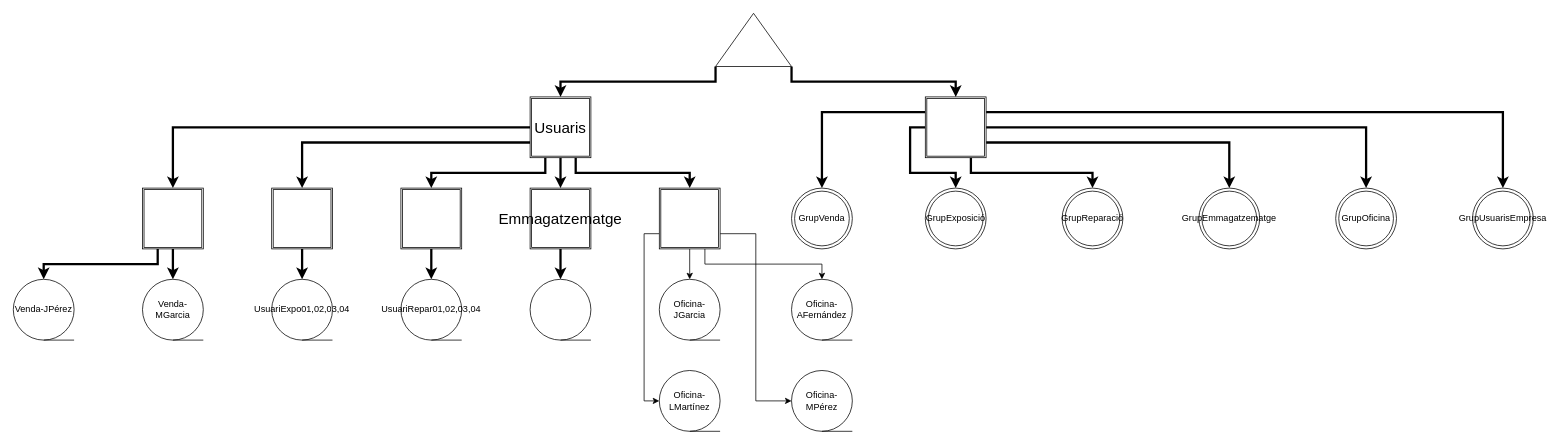
Some shapes in this 1560 by 445 pixel diagram are drawn without their labels. The centre of each missing label's shape, as x and y in pixels:
"Exposició" goes at pixel 301 218.
"Grups" goes at pixel 955 127.
"MSAccess" goes at pixel 560 309.
"Oficina" goes at pixel 689 218.
"pcpitstop.local" goes at pixel 753 39.
"Reparació" goes at pixel 431 218.
"Venda" goes at pixel 172 218.
